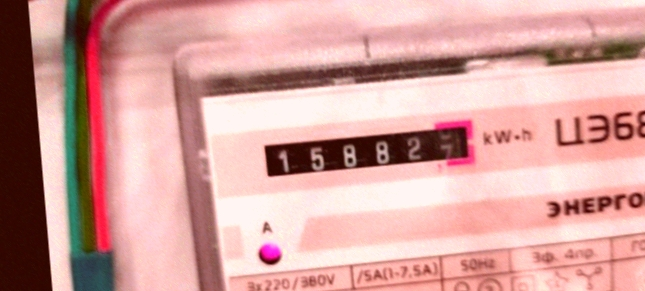1: (275, 149, 291, 175)
2: (404, 136, 421, 161)
5: (306, 145, 325, 172)
7: (438, 141, 453, 161)
8: (339, 143, 358, 170), (372, 139, 389, 166)
screen: (247, 112, 484, 194)
